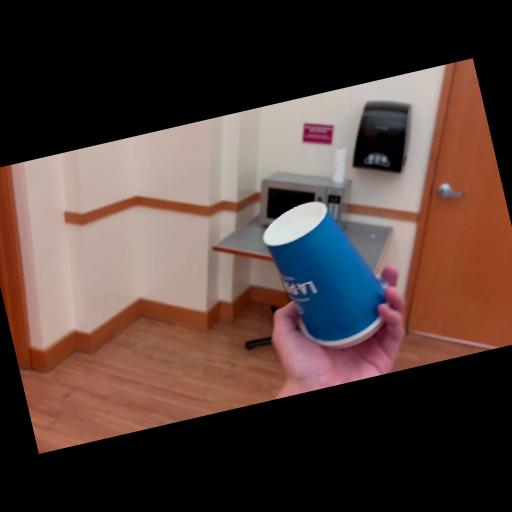lp_paper_cup: (258, 190, 400, 360)
